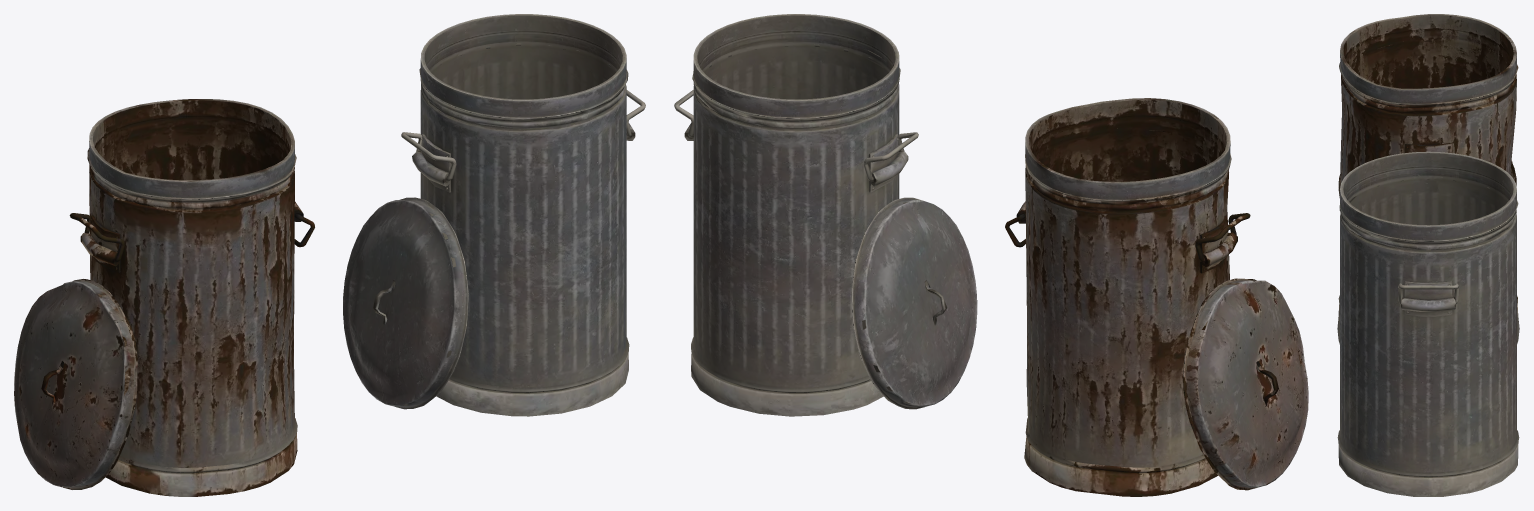
Rendered from metal_trash_can.glb.
The picture shows the model from 3 angles, left to right: view 1: azimuth 30°, elevation 25°; view 2: azimuth 150°, elevation 25°; view 3: azimuth 270°, elevation 25°; orthographic projection. The views are drawn at different scales.
Visible parts, largest first — view 1: metal_trash_can, metal_trash_can_rust, metal_trash_can_lid, metal_trash_can_rust_lid; view 2: metal_trash_can, metal_trash_can_rust, metal_trash_can_lid, metal_trash_can_rust_lid; view 3: metal_trash_can, metal_trash_can_rust, metal_trash_can_handle_right.
Boxes of the visible parts, bbox=[...] form: metal_trash_can: bbox=[412, 14, 635, 416]; metal_trash_can_rust: bbox=[80, 99, 303, 496]; metal_trash_can_lid: bbox=[343, 197, 468, 409]; metal_trash_can_rust_lid: bbox=[14, 279, 137, 489]; metal_trash_can: bbox=[684, 14, 908, 416]; metal_trash_can_rust: bbox=[1016, 98, 1237, 496]; metal_trash_can_lid: bbox=[851, 197, 977, 409]; metal_trash_can_rust_lid: bbox=[1183, 278, 1308, 490]; metal_trash_can: bbox=[1337, 151, 1519, 496]; metal_trash_can_rust: bbox=[1338, 14, 1518, 317]; metal_trash_can_handle_right: bbox=[1398, 283, 1458, 303].
Bounding box in the file's own units: 1.78 × 0.9062 × 0.5543.
Materials: 2 (2 with a texture image).
